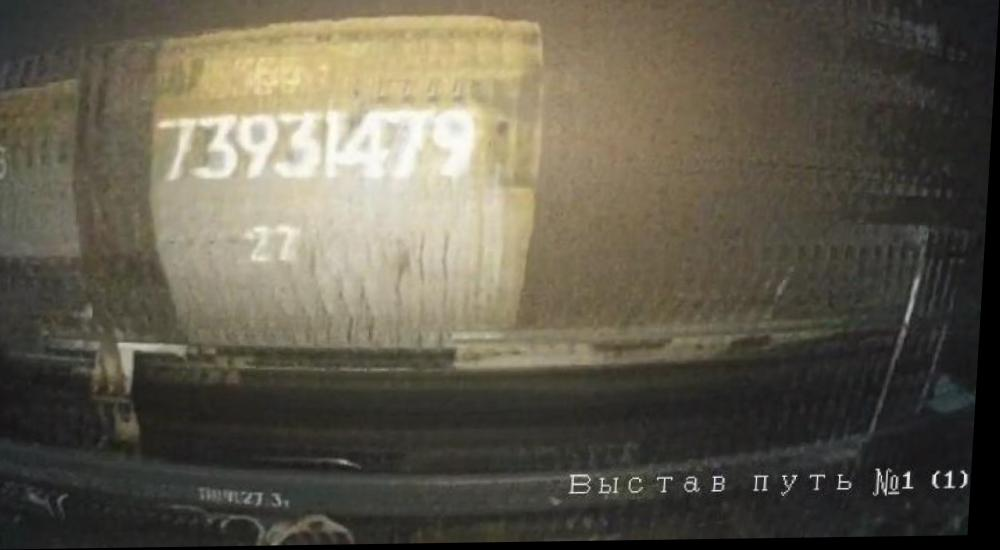Wagon-number: (153, 108, 485, 187)
